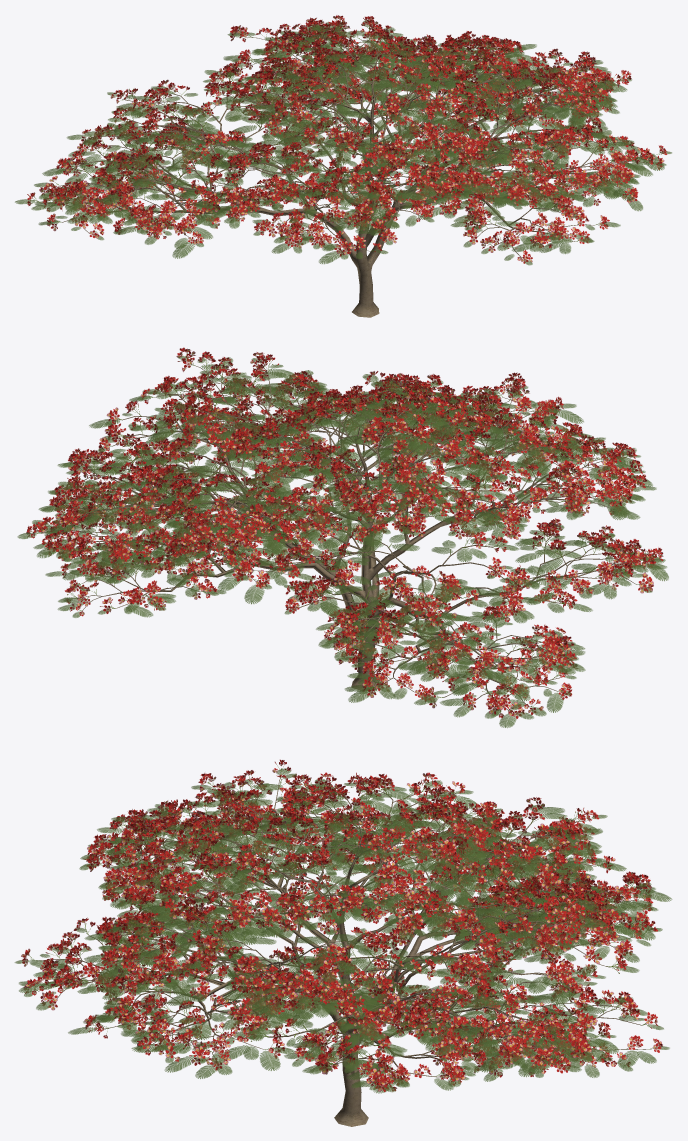
File: poinciana_hd3.glb
3 views of the same model, one above another, from view 1: azimuth 30°, elevation 25°; view 2: azimuth 150°, elevation 25°; view 3: azimuth 270°, elevation 25° (orthographic). The views are drawn at different scales.
Parts seen in each view (by area): view 1: Delonix_regia_HD_w; view 2: Delonix_regia_HD_w; view 3: Delonix_regia_HD_w.
Part boxes in pixels (bbox=[...]): Delonix_regia_HD_w: bbox=[15, 15, 671, 317]; Delonix_regia_HD_w: bbox=[17, 347, 668, 727]; Delonix_regia_HD_w: bbox=[14, 759, 672, 1126].
Bounding box in the file's own units: 15.92 × 7.5 × 14.29.
9 materials, 9 textured.
